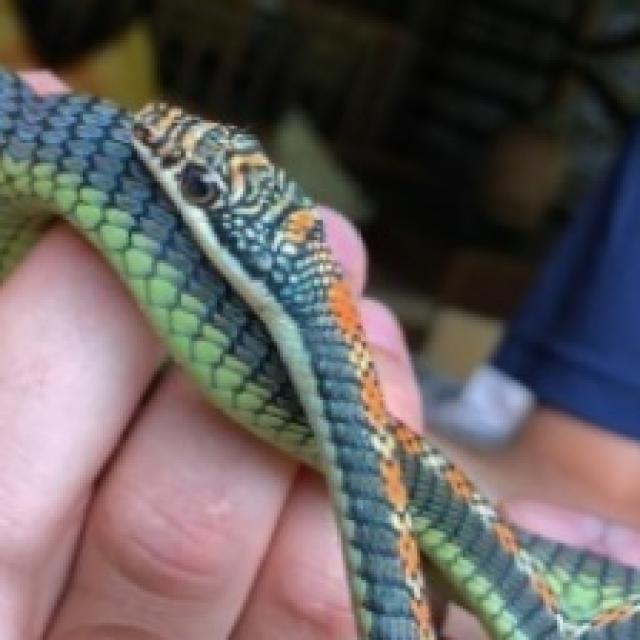paradise tree snake: (0, 71, 637, 637)
